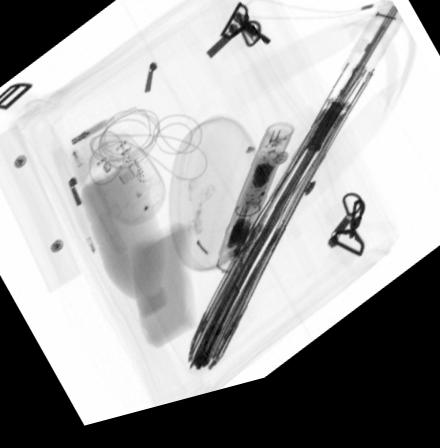Baton: (212, 134, 295, 286)
